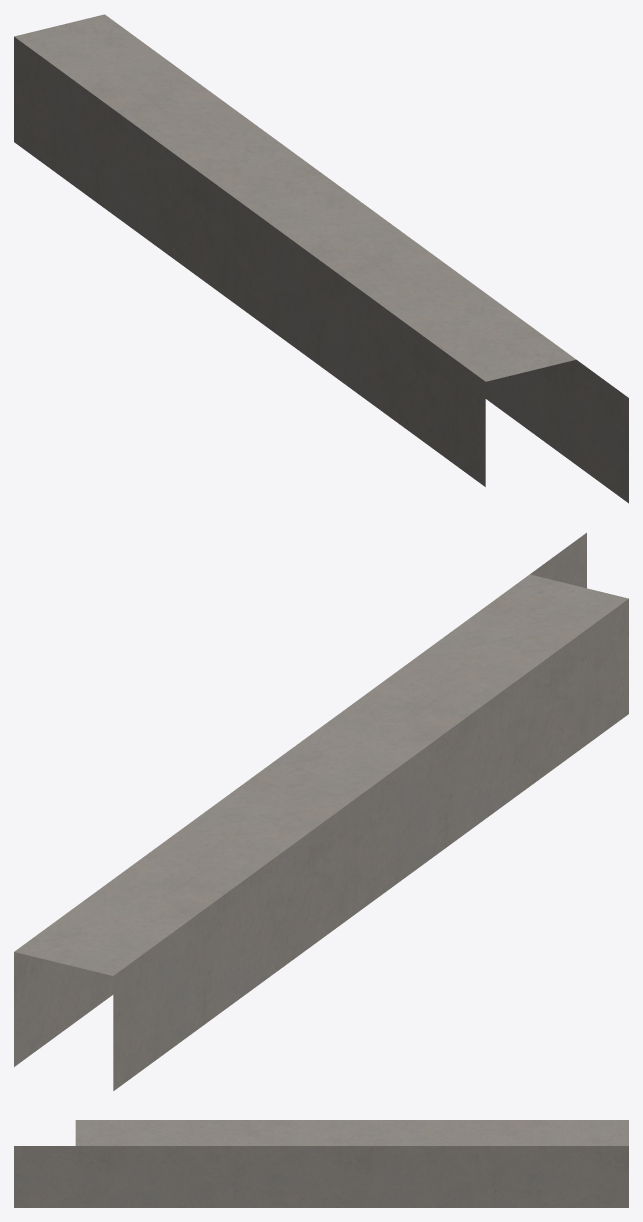
The model's file is SM06_Landscape_FlowerBed_01_End_Bar_R.fbx.
3 renders of one model, top to bottom at view 1: azimuth 30°, elevation 25°; view 2: azimuth 150°, elevation 25°; view 3: azimuth 270°, elevation 25°, orthographic. The views are drawn at different scales.
Visible parts, largest first — view 1: SM06_Landscape_FlowerBed_01_End_Bar_R; view 2: SM06_Landscape_FlowerBed_01_End_Bar_R; view 3: SM06_Landscape_FlowerBed_01_End_Bar_R.
Part boxes in pixels (bbox=[...]): SM06_Landscape_FlowerBed_01_End_Bar_R: bbox=[14, 14, 628, 503]; SM06_Landscape_FlowerBed_01_End_Bar_R: bbox=[14, 533, 628, 1090]; SM06_Landscape_FlowerBed_01_End_Bar_R: bbox=[14, 1120, 628, 1207].
Bounding box in the file's own units: 0.18 × 0.2 × 1.8.
